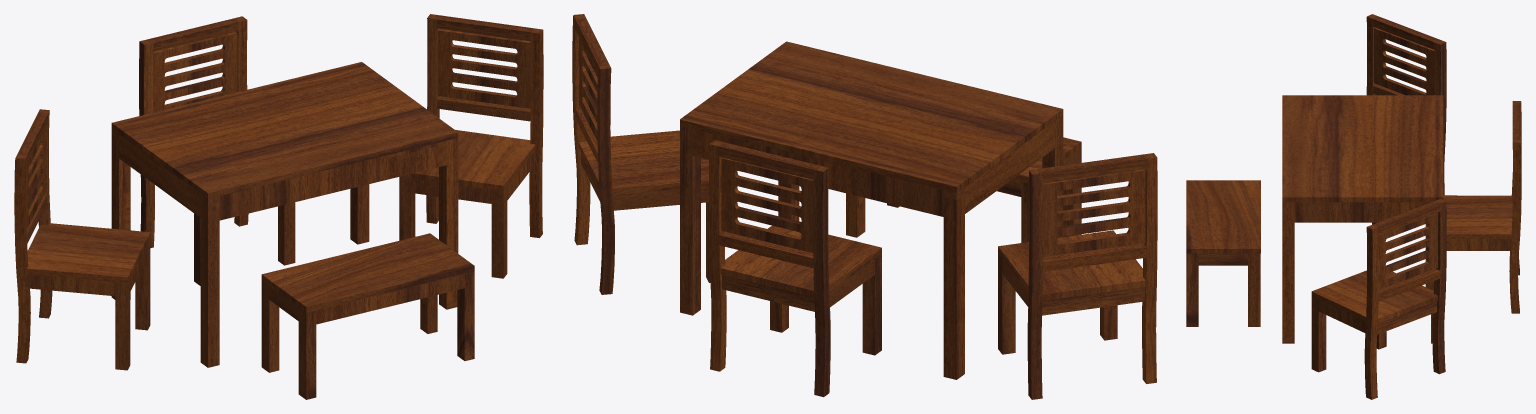
Rendered from Four_Seater_Dining_Table_06.fbx.
The picture shows the model from 3 angles, left to right: view 1: azimuth 30°, elevation 25°; view 2: azimuth 150°, elevation 25°; view 3: azimuth 270°, elevation 25°; orthographic projection. The views are drawn at different scales.
Visible parts, largest first — view 1: 4_Seater.001; view 2: 4_Seater.001; view 3: 4_Seater.001.
Boxes of the visible parts, bbox=[...] form: 4_Seater.001: bbox=[14, 14, 543, 399]; 4_Seater.001: bbox=[572, 14, 1157, 399]; 4_Seater.001: bbox=[1186, 14, 1521, 399].
Size of the model in its own units: 242 by 89.1 by 159.
Materials: 1 (1 with a texture image).
